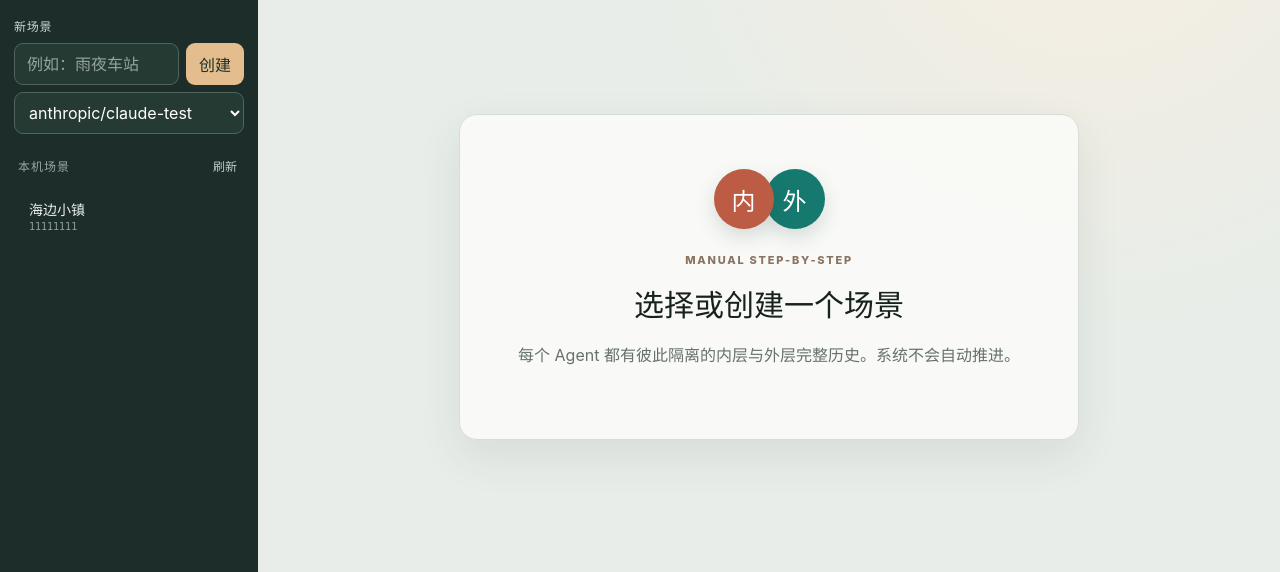
Scenario: App › renders persisted reasoning blocks inside the scene history
Click the button "海边小镇 11111111".
click(113, 216)  # box [19,190,207,241]
(page scrolled)
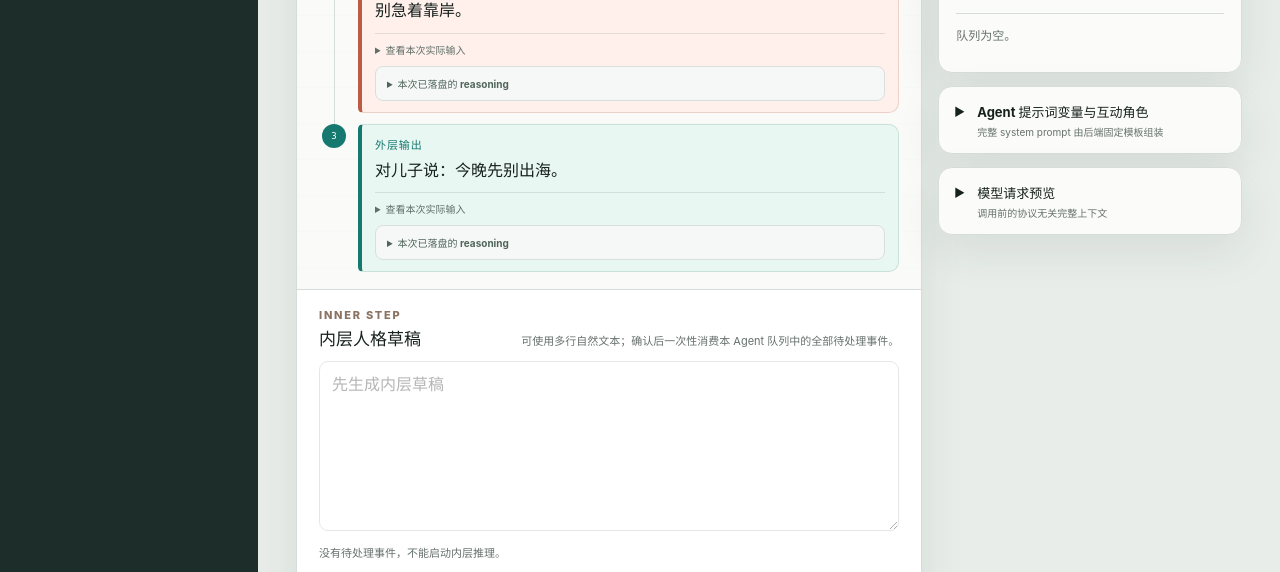
Now the number of elements with class "draft-reasoning" is 2, box [375,66,885,101]; [375,225,885,260]
